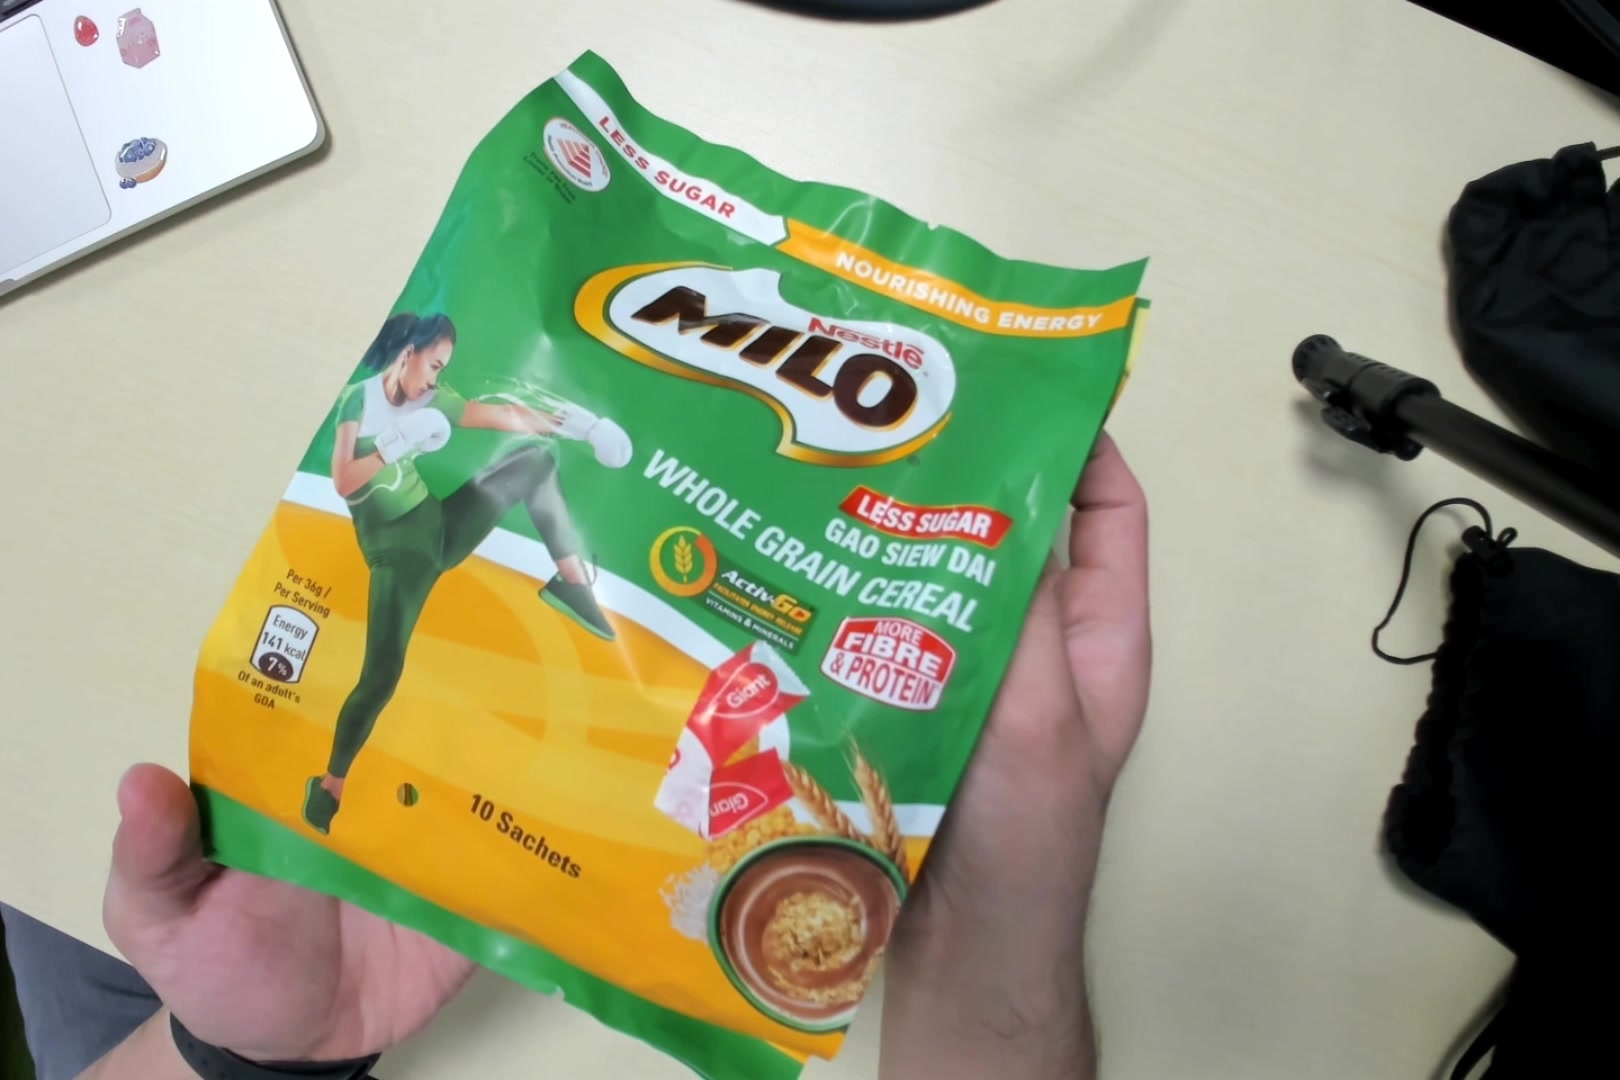ChocolateMaltPowder_300-399g_NonHalal_NonHealthy: (202, 80, 1125, 1079)
